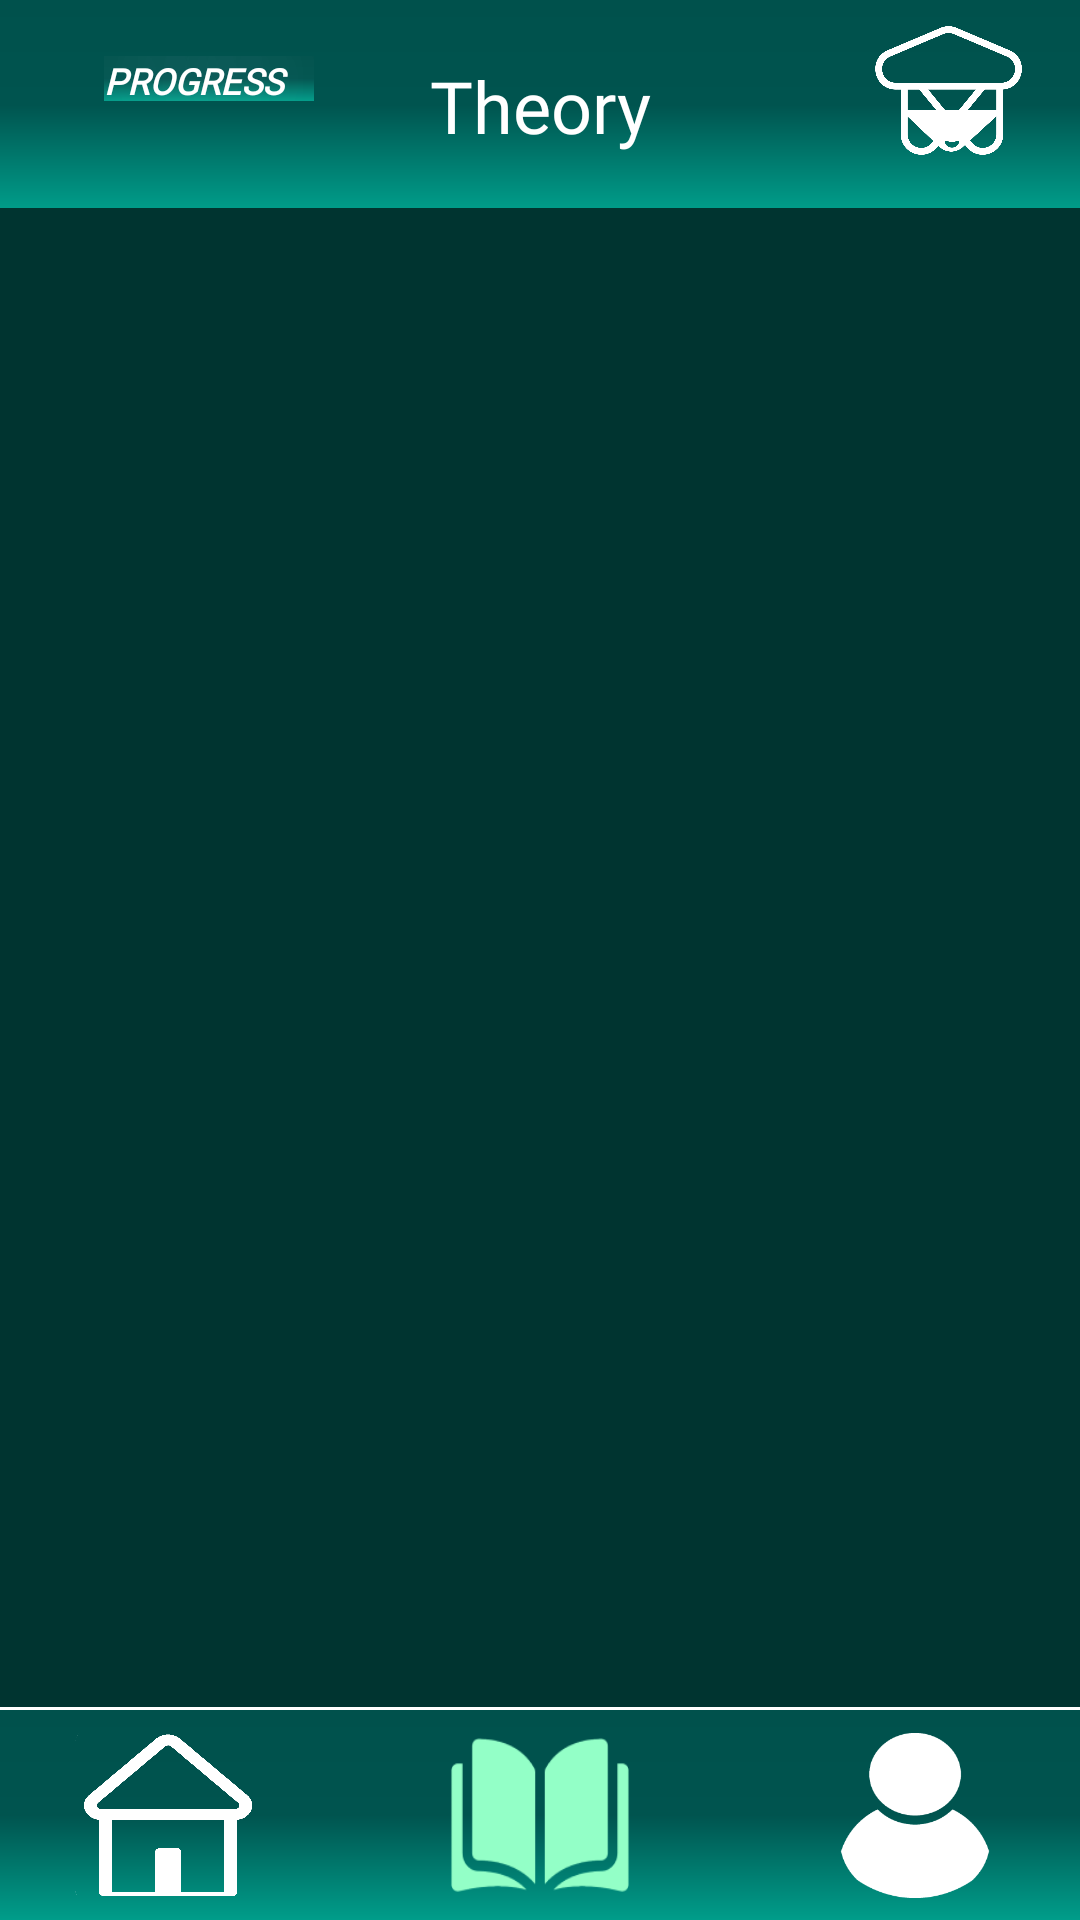

Icon click points for this 1080px×1920px phone screenshot, format [x,y]:
home: [165,1815]
theory: [540,1815]
user: [915,1815]
